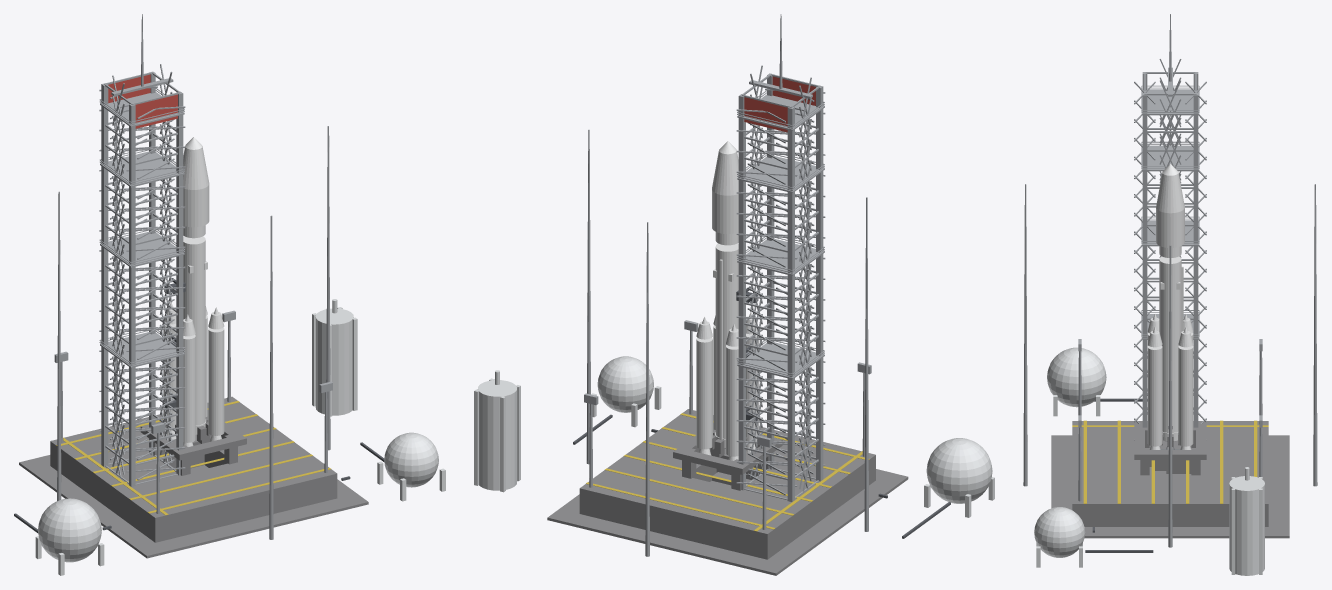
Rendered from launchpad.glb.
3 views of the same model, side by side, from view 1: azimuth 30°, elevation 25°; view 2: azimuth 150°, elevation 25°; view 3: azimuth 270°, elevation 25° (orthographic). The views are drawn at different scales.
Parts seen in each view (by area): view 1: Tower_Steel, Pad_Concrete, Tanks, Masts, Stage1, Stage2, Markings, Booster_L1, Booster_L2, Tower_Red, Booster_L3; view 2: Tower_Steel, Pad_Concrete, Tanks, Masts, Stage1, Stage2, Markings, Booster_L4, Booster_L3, Tower_Red, Booster_L2; view 3: Pad_Concrete, Tower_Steel, Tanks, Masts, Stage1, Stage2, Booster_L1, Booster_L4, Markings, Pipes.
Boxes of the visible parts, x1=… form: Tower_Steel: x1=99, y1=14, x2=185, y2=486; Pad_Concrete: x1=19, y1=396, x2=368, y2=558; Tanks: x1=35, y1=299, x2=445, y2=575; Masts: x1=54, y1=117, x2=332, y2=539; Stage1: x1=183, y1=236, x2=207, y2=434; Stage2: x1=183, y1=137, x2=209, y2=238; Markings: x1=56, y1=401, x2=330, y2=515; Booster_L1: x1=208, y1=307, x2=224, y2=441; Booster_L2: x1=183, y1=314, x2=195, y2=446; Tower_Red: x1=108, y1=74, x2=177, y2=128; Booster_L3: x1=163, y1=302, x2=176, y2=439; Tower_Steel: x1=736, y1=14, x2=825, y2=501; Pad_Concrete: x1=547, y1=409, x2=908, y2=575; Tanks: x1=474, y1=356, x2=994, y2=517; Masts: x1=584, y1=121, x2=871, y2=556; Stage1: x1=713, y1=243, x2=738, y2=448; Stage2: x1=712, y1=141, x2=738, y2=245; Markings: x1=586, y1=413, x2=869, y2=531; Booster_L4: x1=696, y1=316, x2=712, y2=455; Booster_L3: x1=726, y1=324, x2=738, y2=460; Tower_Red: x1=744, y1=76, x2=815, y2=132; Booster_L2: x1=746, y1=312, x2=759, y2=453; Pad_Concrete: x1=1051, y1=421, x2=1289, y2=538; Tower_Steel: x1=1134, y1=14, x2=1206, y2=449; Tanks: x1=1034, y1=347, x2=1264, y2=575; Masts: x1=1023, y1=124, x2=1317, y2=547; Stage1: x1=1159, y1=256, x2=1183, y2=441; Stage2: x1=1156, y1=164, x2=1184, y2=257; Booster_L1: x1=1147, y1=327, x2=1162, y2=449; Booster_L4: x1=1178, y1=327, x2=1193, y2=449; Markings: x1=1072, y1=420, x2=1268, y2=503; Pipes: x1=1085, y1=398, x2=1153, y2=552.
Size of the model in its own units: 101 by 117 by 69.
